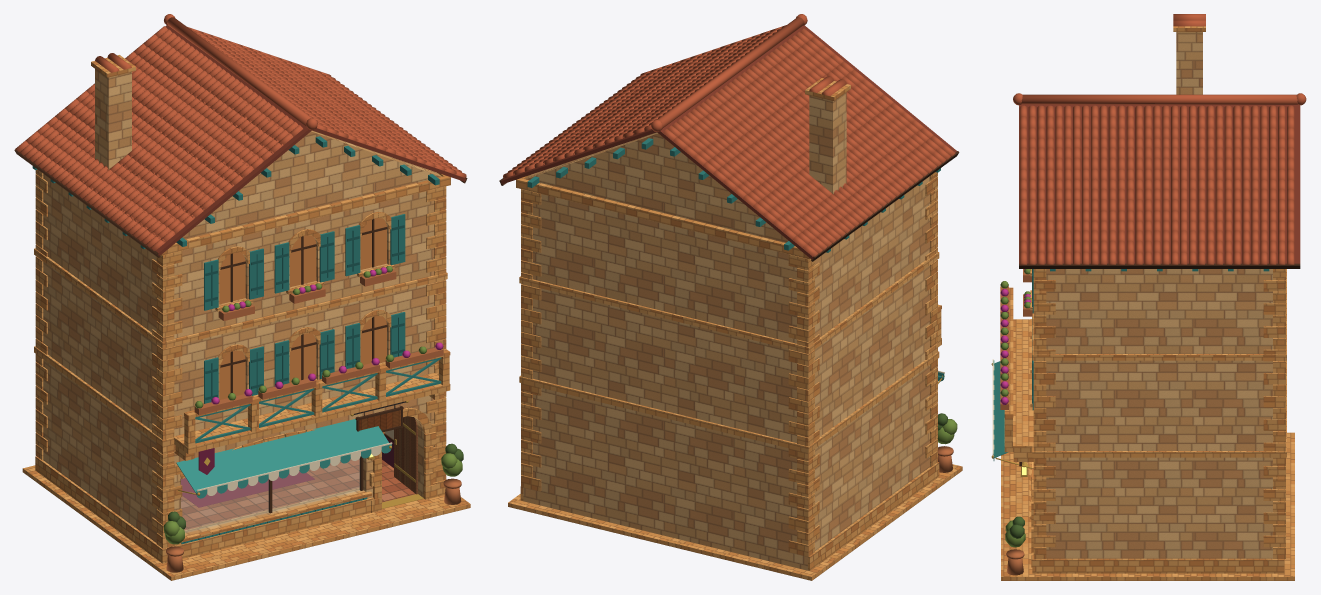
The model's file is house_large_shutters.glb.
3 renders of one model, left to right at view 1: azimuth 30°, elevation 25°; view 2: azimuth 150°, elevation 25°; view 3: azimuth 270°, elevation 25°, orthographic. The views are drawn at different scales.
Visible parts, largest first — view 1: exterior_walls, roof_tiles, exterior_trim, windows, facade_details, roof_structure, opt_awning, interior_floor, planters, door_frame, door_leaf, sign_board; view 2: exterior_walls, roof_tiles, exterior_trim, roof_structure, planters; view 3: exterior_walls, roof_tiles, exterior_trim, roof_structure, facade_details, planters, opt_awning.
Part boxes in pixels (<box>): exterior_walls: <box>43,130,441,542</box>; roof_tiles: <box>15,14,466,250</box>; exterior_trim: <box>22,169,470,580</box>; windows: <box>180,214,405,544</box>; facade_details: <box>173,342,450,474</box>; roof_structure: <box>14,25,467,257</box>; opt_awning: <box>176,419,392,498</box>; interior_floor: <box>181,459,415,529</box>; planters: <box>163,266,463,572</box>; door_frame: <box>369,407,436,512</box>; door_leaf: <box>394,416,417,494</box>; sign_board: <box>355,406,403,432</box>; exterior_walls: <box>523,132,930,570</box>; roof_tiles: <box>503,14,955,256</box>; exterior_trim: <box>508,172,962,580</box>; roof_structure: <box>499,25,959,261</box>; planters: <box>937,413,957,472</box>; exterior_walls: <box>1035,269,1283,558</box>; roof_tiles: <box>1013,93,1306,264</box>; exterior_trim: <box>1001,269,1294,580</box>; roof_structure: <box>1019,14,1300,271</box>; facade_details: <box>1000,281,1033,461</box>; planters: <box>1005,269,1032,575</box>; opt_awning: <box>991,359,1031,468</box>.
Size of the model in its own units: 9.99 by 13.53 by 8.84.
26 materials, 5 textured.
